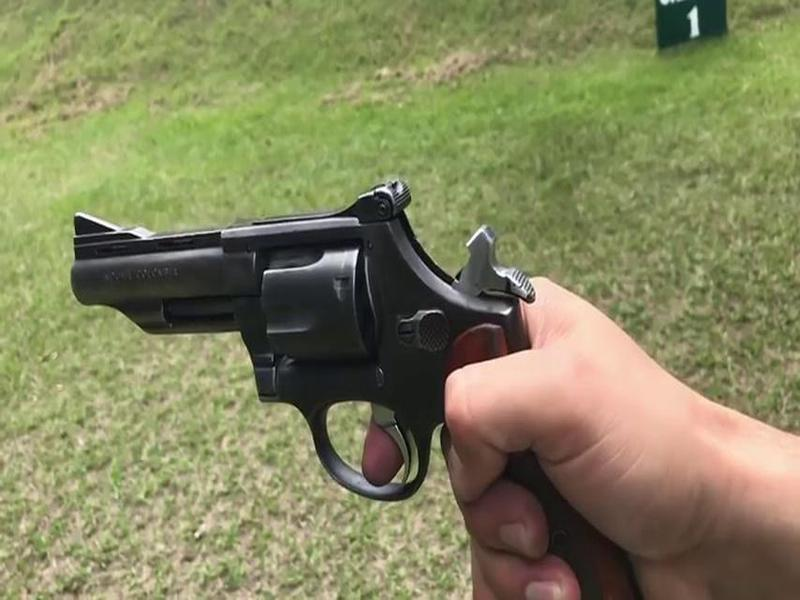Revolver: (57, 177, 618, 580)
